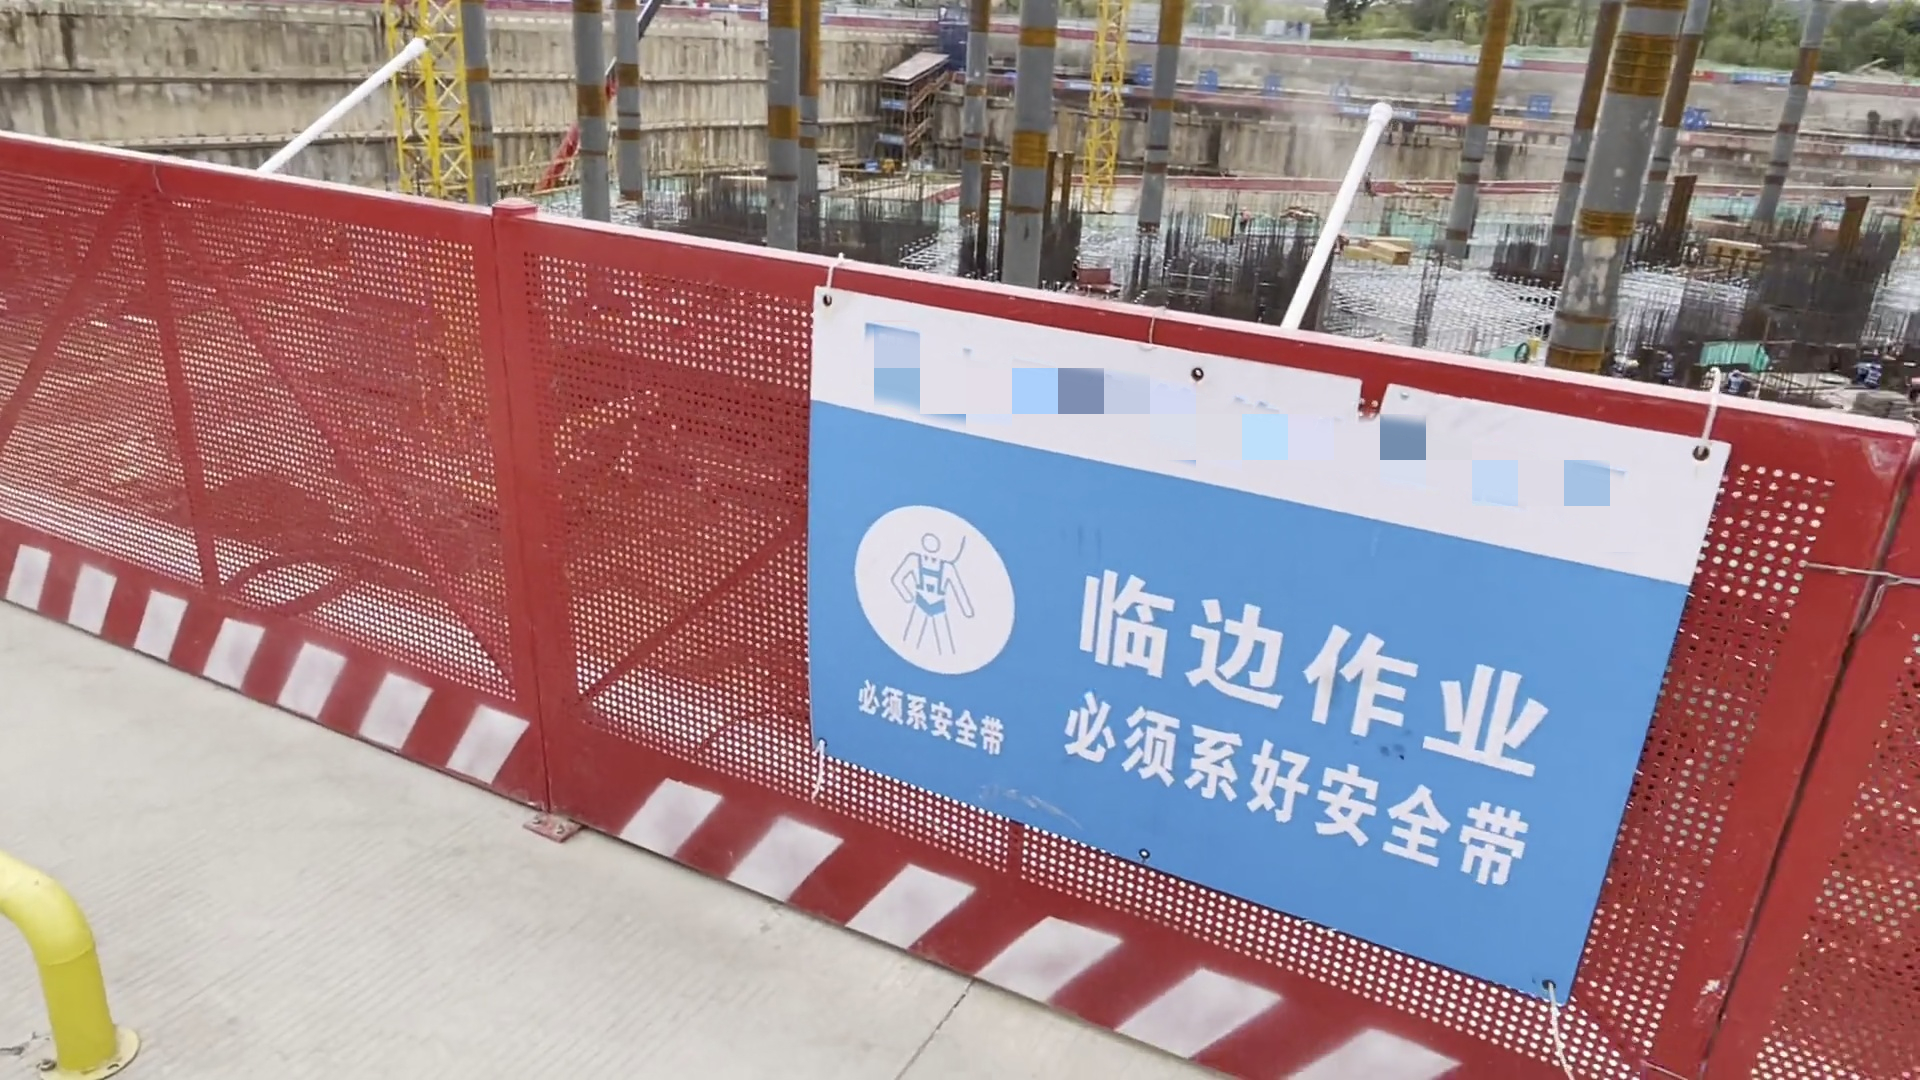helmet: (1871, 363, 1881, 370), (1731, 369, 1742, 376), (1666, 353, 1673, 360)
person: (1721, 362, 1758, 411), (1862, 360, 1886, 398), (1658, 349, 1678, 384)
vest: (1730, 377, 1748, 397), (1867, 370, 1881, 388), (1663, 362, 1673, 379)
